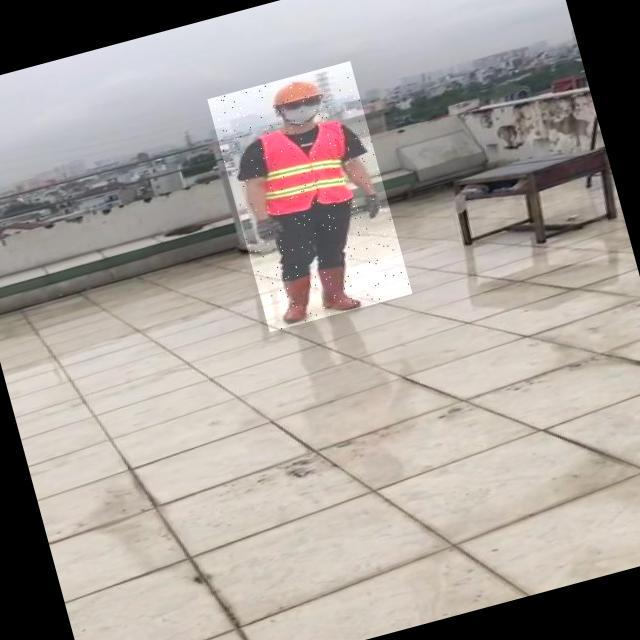Gloves: (253, 215, 286, 244), (360, 192, 388, 221)
Helmet: (266, 73, 324, 110)
Human: (208, 61, 413, 332)
Safety Boot: (312, 259, 366, 317), (276, 272, 319, 325)
Safety Vest: (252, 115, 358, 221)
